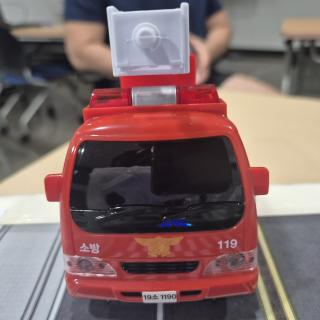Fire_truck: (44, 3, 269, 304)
